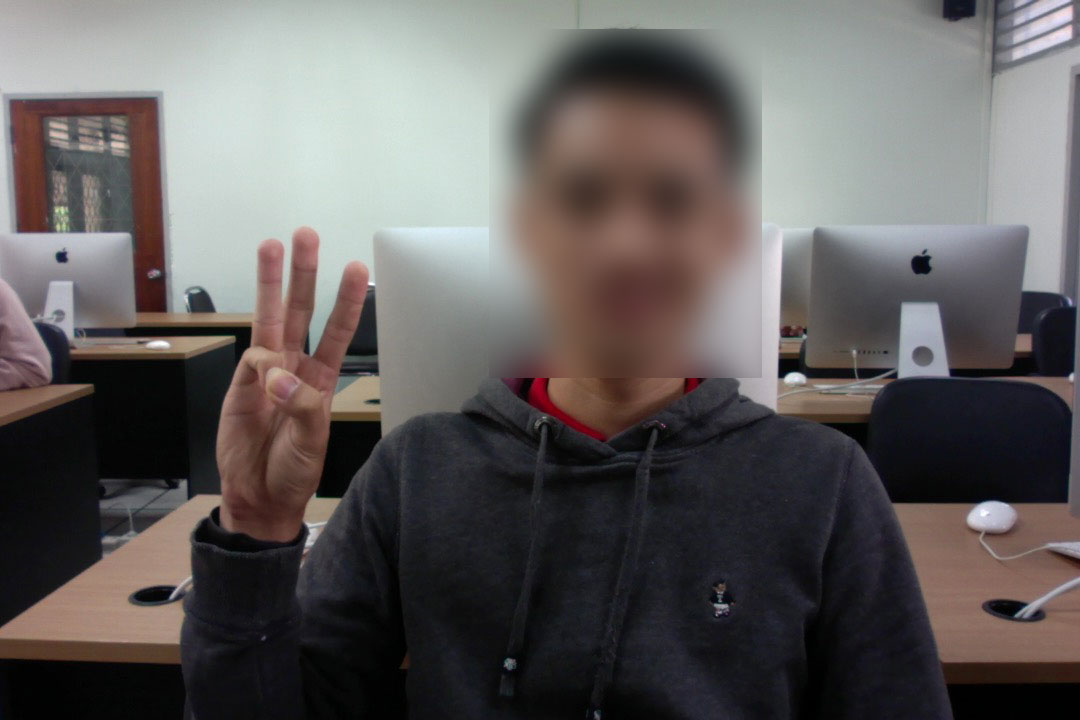wor: (197, 224, 372, 512)
